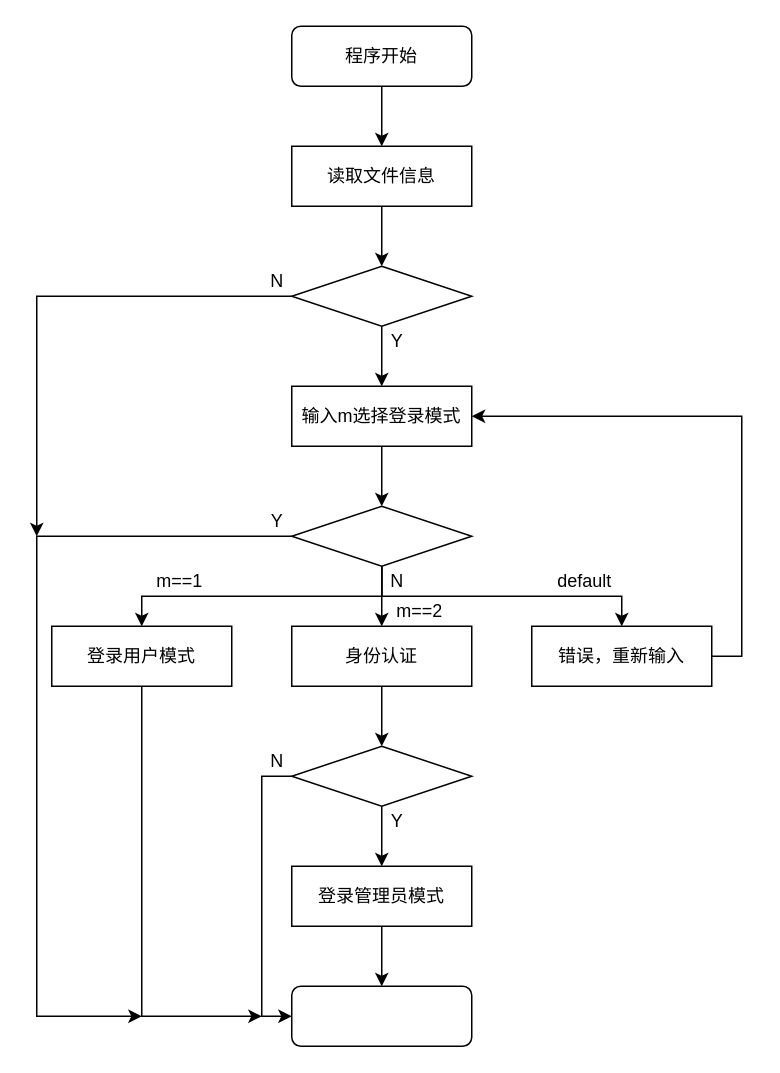
The diagram is 780 pixels wide and 1073 high, and some of its shapes have lost their labels. Here are the shapes that lost their labels. From the top down, the centre of each, then its label:
the point at 381,295: 读取成功？
the point at 381,535: m==0？
the point at 381,775: 认证成功？
the point at 381,1015: 程序结束
